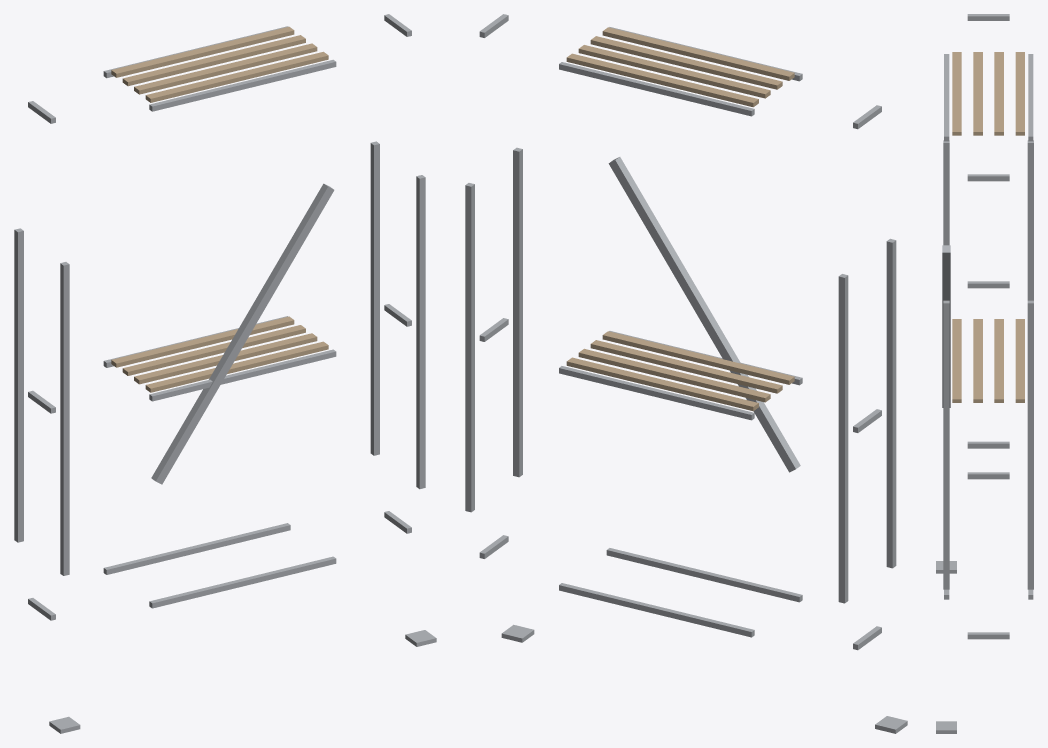
The model's file is construction_scaffold.glb.
3 views of the same model, side by side, from view 1: azimuth 30°, elevation 25°; view 2: azimuth 150°, elevation 25°; view 3: azimuth 270°, elevation 25° (orthographic). The views are drawn at different scales.
Parts seen in each view (by area): view 1: ConstructionScaffold; view 2: ConstructionScaffold; view 3: ConstructionScaffold.
Part boxes in pixels (x1,y1,x2,y2): ConstructionScaffold: (14, 14, 436, 733); ConstructionScaffold: (465, 14, 907, 733); ConstructionScaffold: (936, 14, 1033, 733).
Size of the model in its own units: 1.9 by 2.92 by 0.465.
